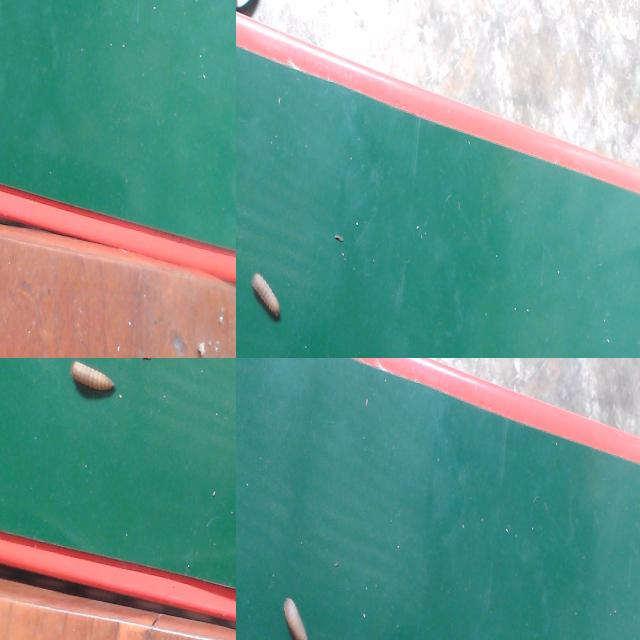Maggot: (69, 361, 118, 401), (250, 273, 282, 322), (281, 597, 311, 640)
